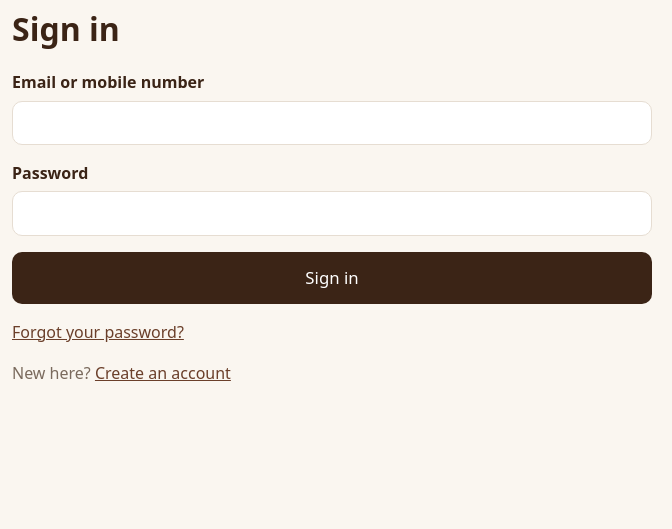
Scenario: LoginPage › shows the actionable lockout message the backend sends
In the field labelled "Email or mobile number": (332, 123) [12,101,652,145], type "asha@example.com"
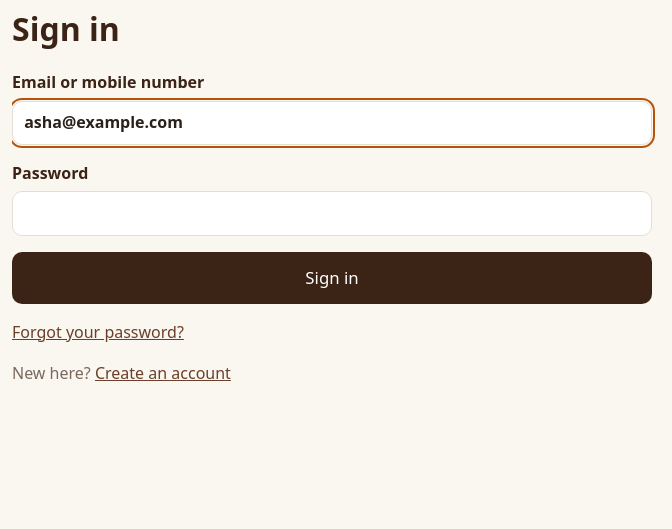
In the password field labelled "Password": (332, 214) [12,191,652,236], type "wrong-password"
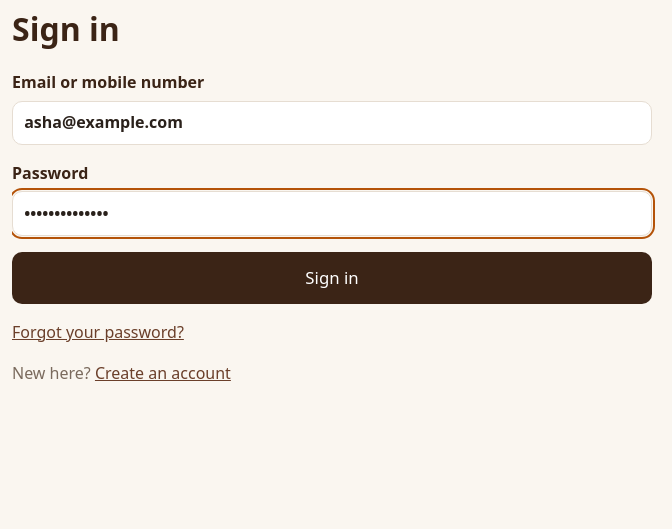
Click the button "Sign in": (332, 278) [12,252,652,304]
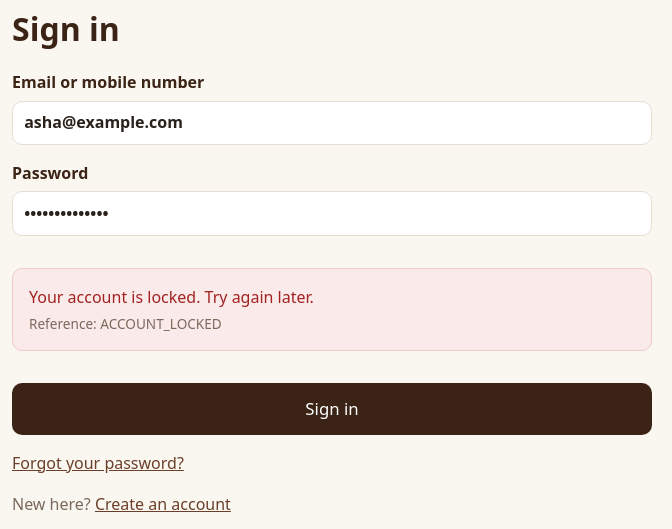
Check: the text "Your account is locked. Try again later." is shown, box [29,286,314,308]
